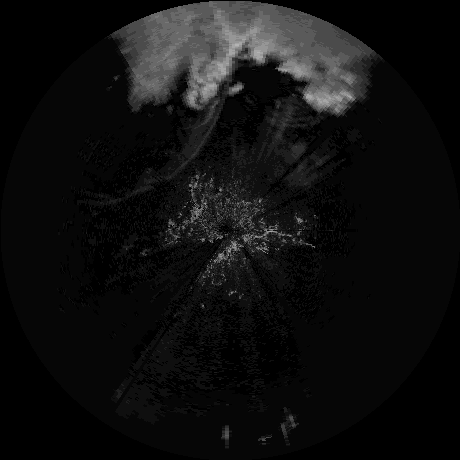frontgust: (174, 96, 223, 171)
